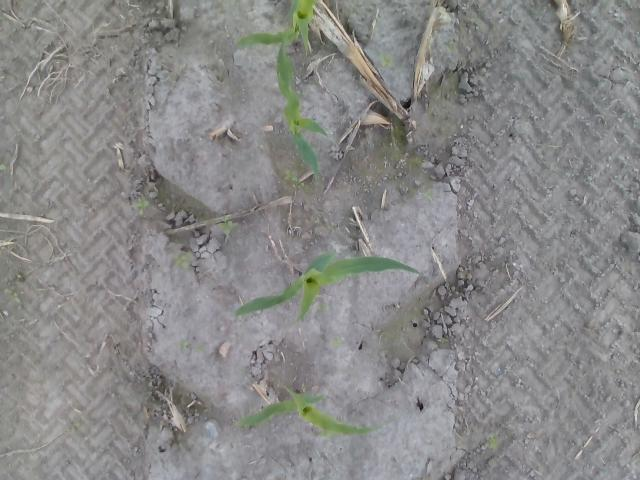Maize: (233, 250, 421, 324), (234, 386, 397, 436), (274, 38, 330, 182), (232, 0, 319, 56)
Weeds: (218, 214, 238, 236), (283, 168, 304, 188), (131, 196, 150, 215), (172, 252, 192, 270), (5, 287, 22, 304), (378, 52, 396, 68), (484, 432, 498, 448), (316, 428, 338, 438), (174, 339, 188, 352), (422, 187, 437, 199), (445, 40, 457, 52), (331, 335, 344, 346), (67, 419, 80, 430), (318, 302, 328, 312), (194, 344, 204, 352), (300, 382, 306, 394), (327, 224, 336, 232), (438, 338, 448, 344), (241, 369, 248, 377), (0, 164, 7, 169)
